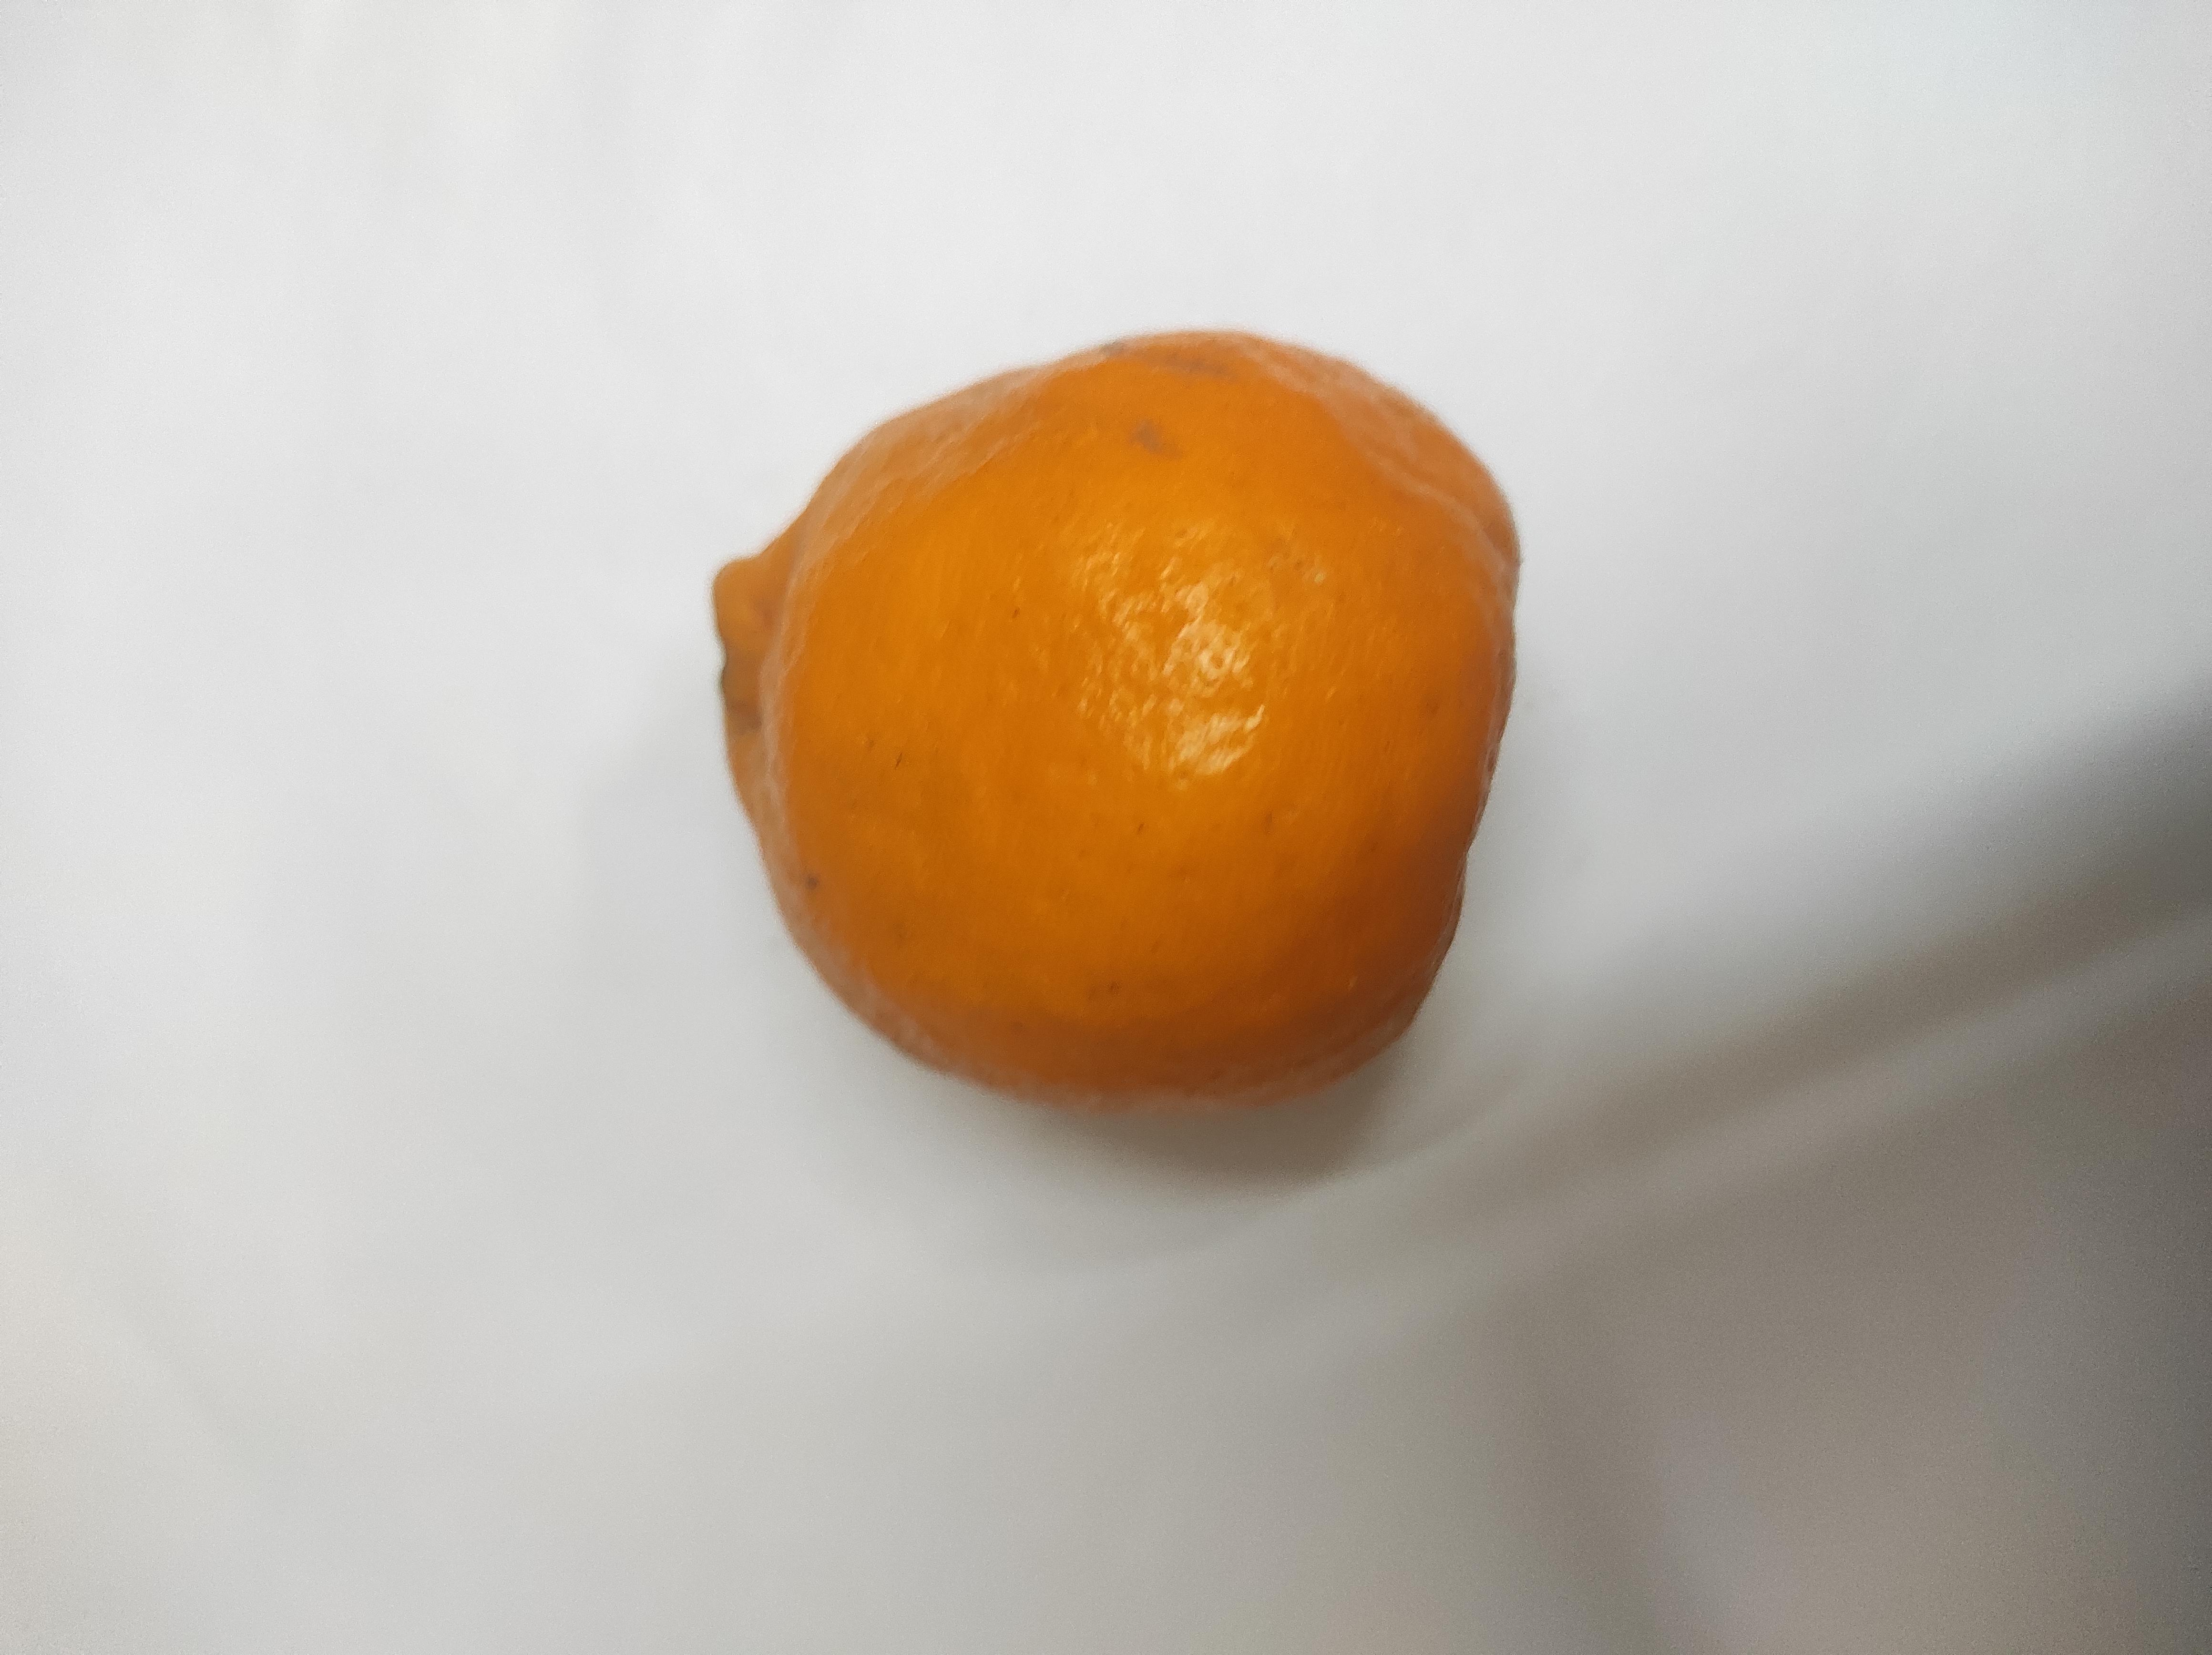Ripe: (710, 329, 1530, 1092)
